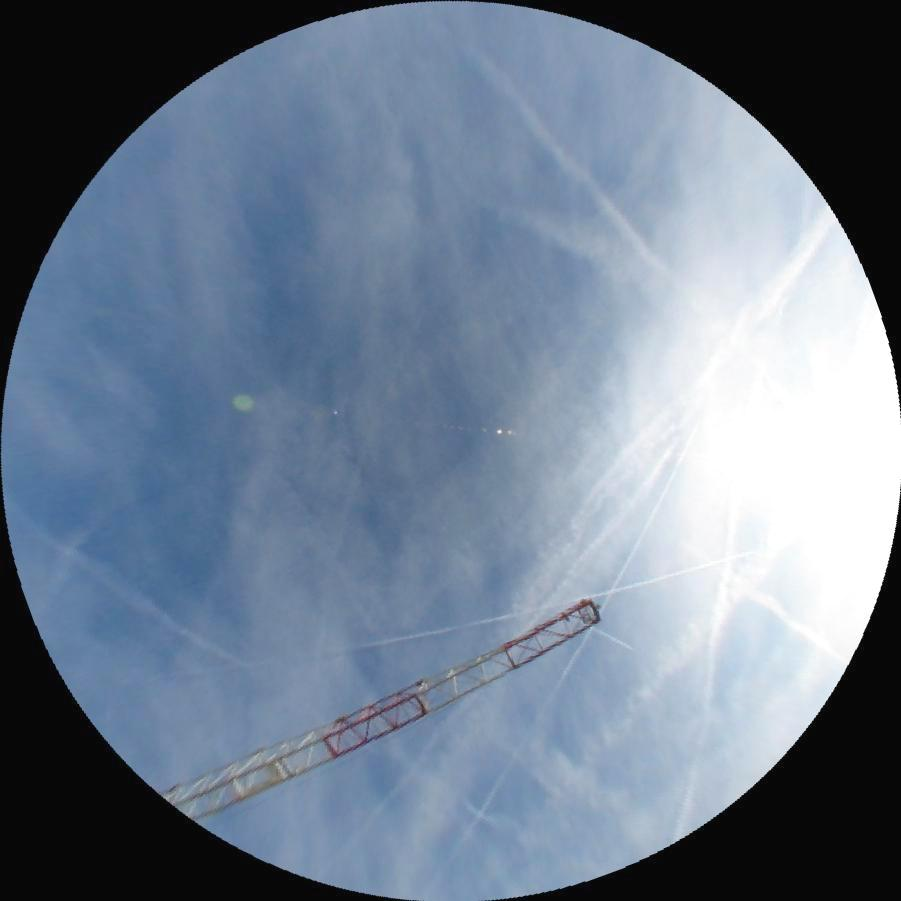contrail veryold: (309, 436, 715, 901), (490, 198, 848, 622), (458, 35, 793, 412), (510, 524, 789, 859), (663, 292, 789, 845), (0, 489, 259, 688), (299, 300, 425, 668), (441, 152, 700, 325), (656, 517, 852, 665), (792, 180, 824, 389)
contrail young: (418, 416, 714, 901), (155, 549, 757, 692), (586, 621, 633, 652)
